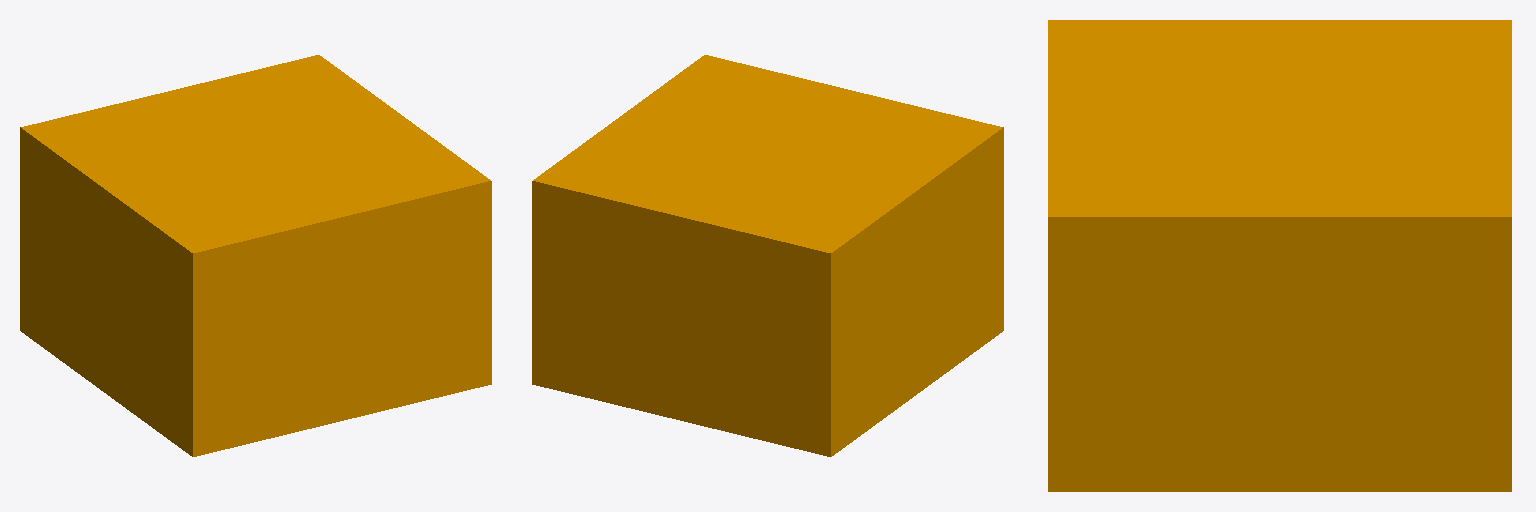
The robot description file, URDF, robot "simple_box":
<robot name="simple_box">
  <link name="my_box">
    <inertial>
      <origin xyz="0 0 0.0145"/>
      <mass value="0.1" />
      <inertia  ixx="0.0001" ixy="0.0"  ixz="0.0"  iyy="0.0001"  iyz="0.0"  izz="0.0001" />
    </inertial>
    <visual>
      <origin xyz="-0.23 0 0.15"/>
      <geometry>
        <box size="0.46 0.46 0.3"/>
      </geometry>
    </visual>
    <collision>
      <origin xyz="-0.23 0 0.15"/>
      <geometry>
        <box size="0.46 0.46 0.3"/>
      </geometry>
    </collision>
  </link>
  <gazebo reference="my_box">
    <material>Gazebo/Wood</material>
  </gazebo>
  <gazebo>
    <static>true</static>
  </gazebo>
</robot>

--- Render facts (derived) ---
Views: 3 orthographic renders of the robot side by side, from view 1: azimuth 30°, elevation 25°; view 2: azimuth 150°, elevation 25°; view 3: azimuth 270°, elevation 25°.
Model simple_box with 1 links and 0 joints (none), rooted at my_box, posed all joints at 0.
Links seen in each view (by area): view 1: my_box; view 2: my_box; view 3: my_box.
Boxes of the visible links, x1,y1,x2,y2 form: my_box: [20, 55, 491, 456]; my_box: [532, 55, 1003, 456]; my_box: [1048, 20, 1511, 491].
Size in the robot's own frame: 0.46 by 0.46 by 0.3 metres.
Geometry: primitives only (box / cylinder / sphere), no mesh files.